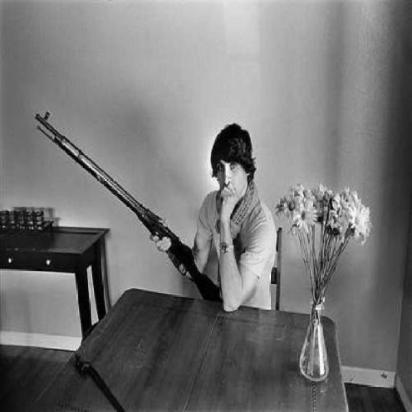Gun: (37, 107, 230, 313)
